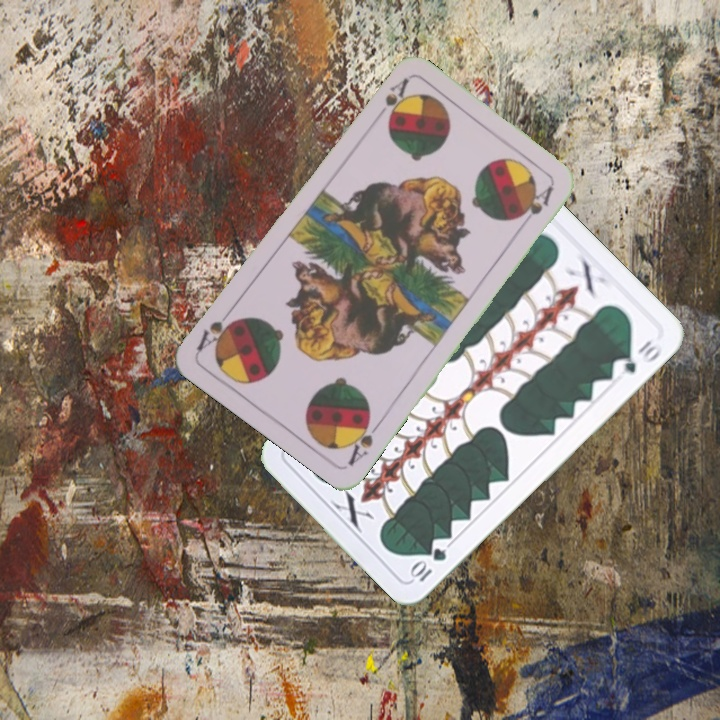G10: (406, 543, 450, 585)
SA: (344, 411, 385, 468), (369, 74, 412, 124)
